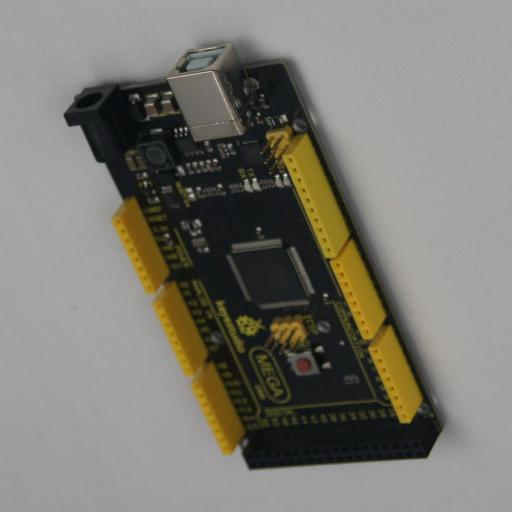Arduino Mega 2560 -Black and Yellow-: (64, 44, 446, 470)
